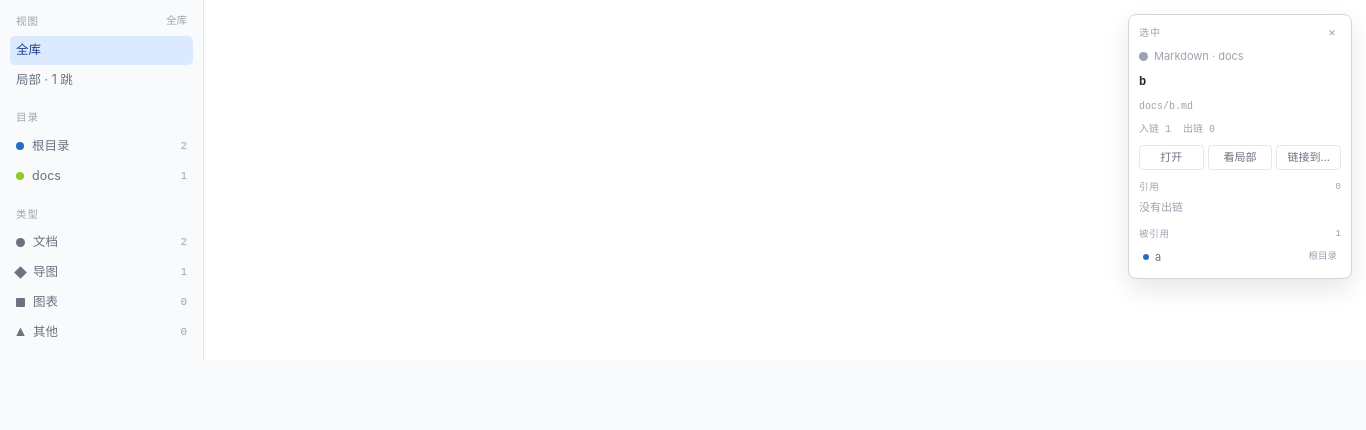
Test: TC-VIEW-007 全库 ⇄ 局部 › 默认全库，点击后进局部并显示中心与深度控件
This screenshot has width=1366, height=430.
Click the button with class "graph-rail__row" showing "局部 · 1 跳". click: (102, 80)
box: [10,66,193,94]
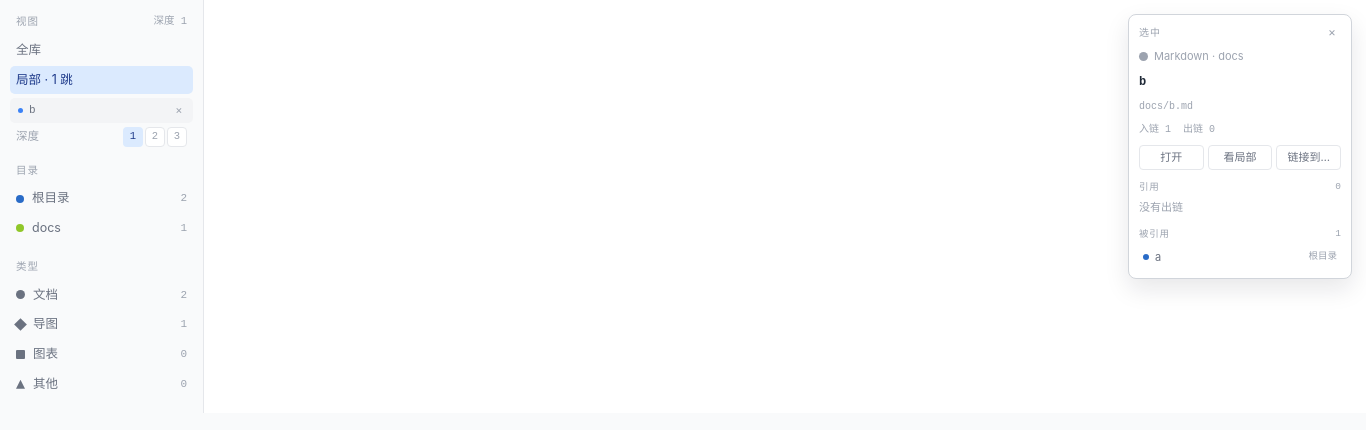
expect the text with class "graph-rail__center-name" reads "b": met, box [29,104,36,116]
expect the button with class "is-on" reads "1": met, box [123,127,143,147]
